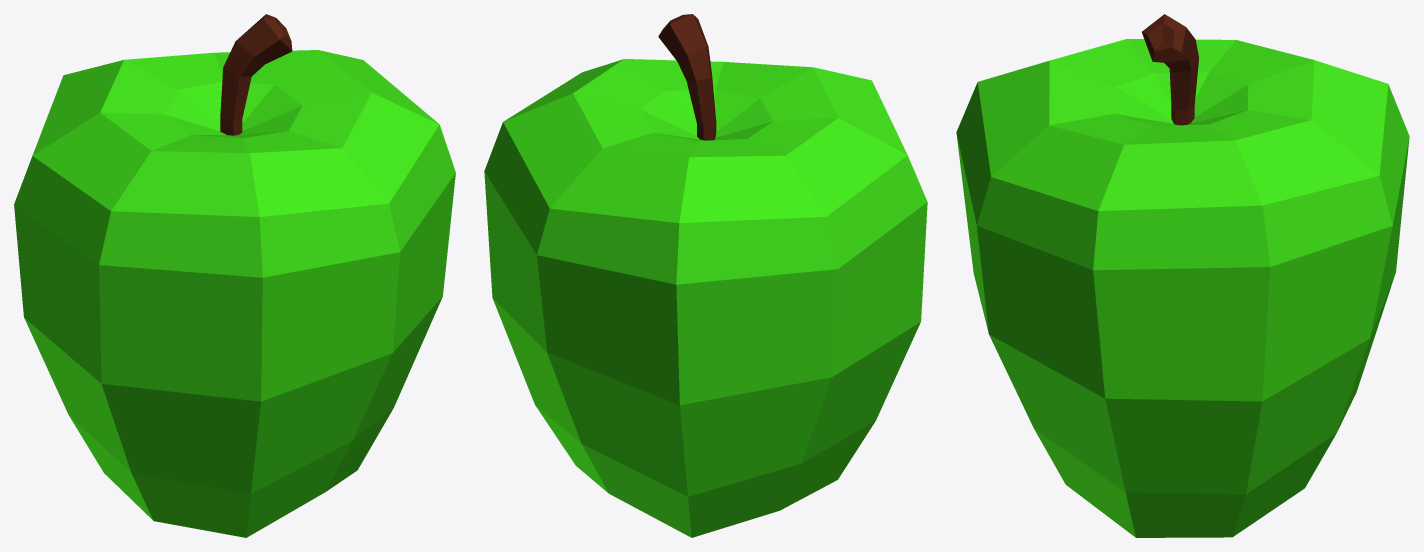
File: Apple2b.fbx
The picture shows the model from 3 angles, left to right: view 1: azimuth 30°, elevation 25°; view 2: azimuth 150°, elevation 25°; view 3: azimuth 270°, elevation 25°; orthographic projection. The views are drawn at different scales.
Parts seen in each view (by area): view 1: Sphere; view 2: Sphere; view 3: Sphere.
Part boxes in pixels (x1=…): Sphere: x1=14, y1=14, x2=455, y2=537; Sphere: x1=484, y1=14, x2=927, y2=537; Sphere: x1=956, y1=14, x2=1409, y2=537.
Bounding box in the file's own units: 203 × 254 × 210.
